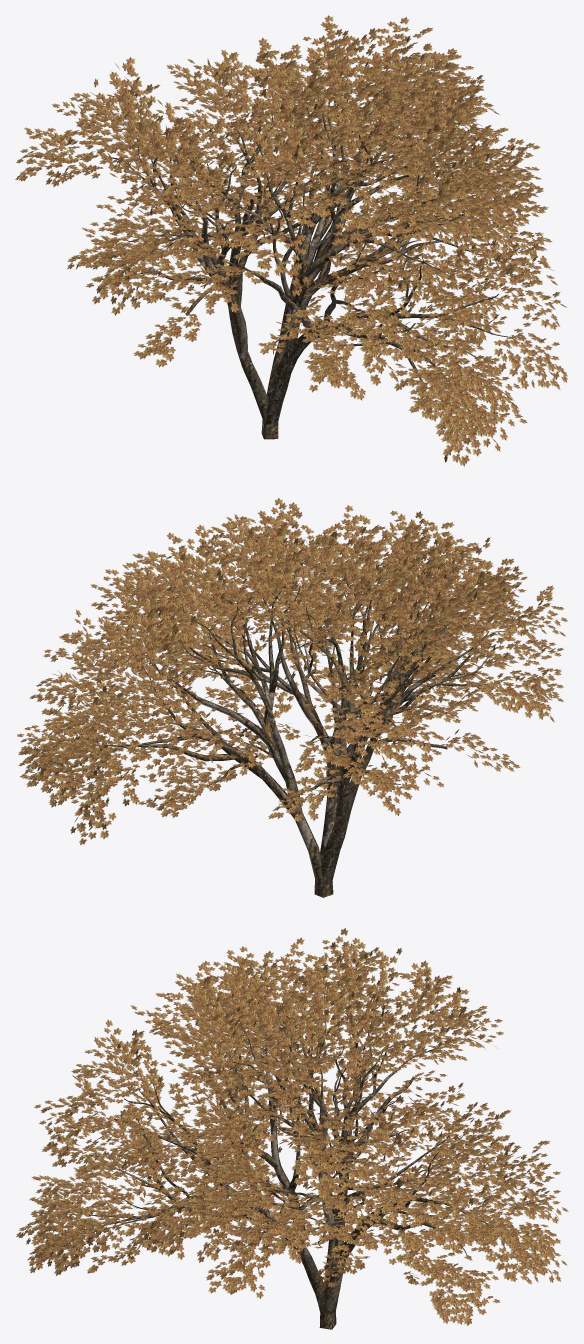
File: highDraco.glb
3 views of the same model, one above another, from view 1: azimuth 30°, elevation 25°; view 2: azimuth 150°, elevation 25°; view 3: azimuth 270°, elevation 25° (orthographic). The views are drawn at different scales.
Visible parts, largest first — view 1: group1_leaves, object 1; view 2: group1_leaves, object 1; view 3: group1_leaves, object 1.
Part boxes in pixels (x1=…): group1_leaves: x1=15, y1=15, x2=567, y2=466; object 1: x1=105, y1=83, x2=509, y2=439; group1_leaves: x1=17, y1=498, x2=567, y2=844; object 1: x1=77, y1=561, x2=491, y2=897; group1_leaves: x1=16, y1=928, x2=568, y2=1325; object 1: x1=85, y1=988, x2=494, y2=1329.
Size of the model in its own units: 51.71 by 39.44 by 56.7.
2 materials, 2 textured.
